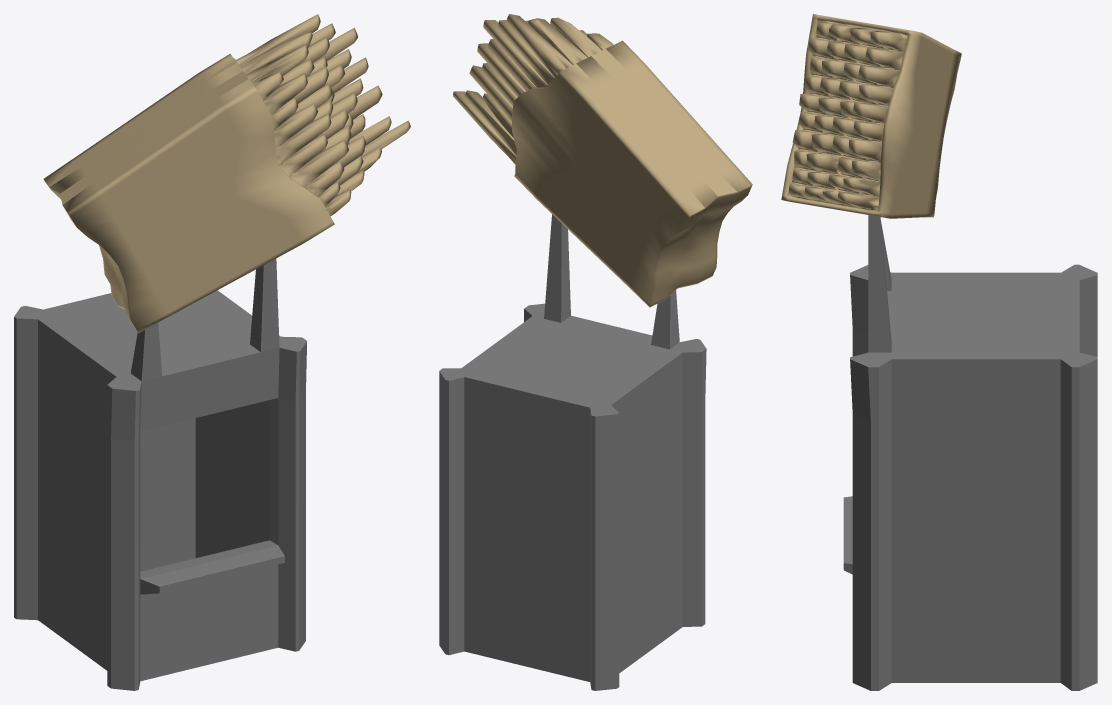
Rendered from SM_FriesBooth.fbx.
3 views of the same model, side by side, from view 1: azimuth 30°, elevation 25°; view 2: azimuth 150°, elevation 25°; view 3: azimuth 270°, elevation 25° (orthographic). The views are drawn at different scales.
Visible parts, largest first — view 1: FryBooth_low, Fries_low; view 2: FryBooth_low, Fries_low; view 3: FryBooth_low, Fries_low.
Part boxes in pixels (box(x1,y1,x2,y2)): FryBooth_low: box(14, 258, 307, 690); Fries_low: box(43, 14, 410, 333); FryBooth_low: box(439, 214, 706, 690); Fries_low: box(453, 14, 752, 307); FryBooth_low: box(843, 215, 1097, 690); Fries_low: box(781, 14, 961, 218).
Bounding box in the file's own units: 160 × 282 × 121.
